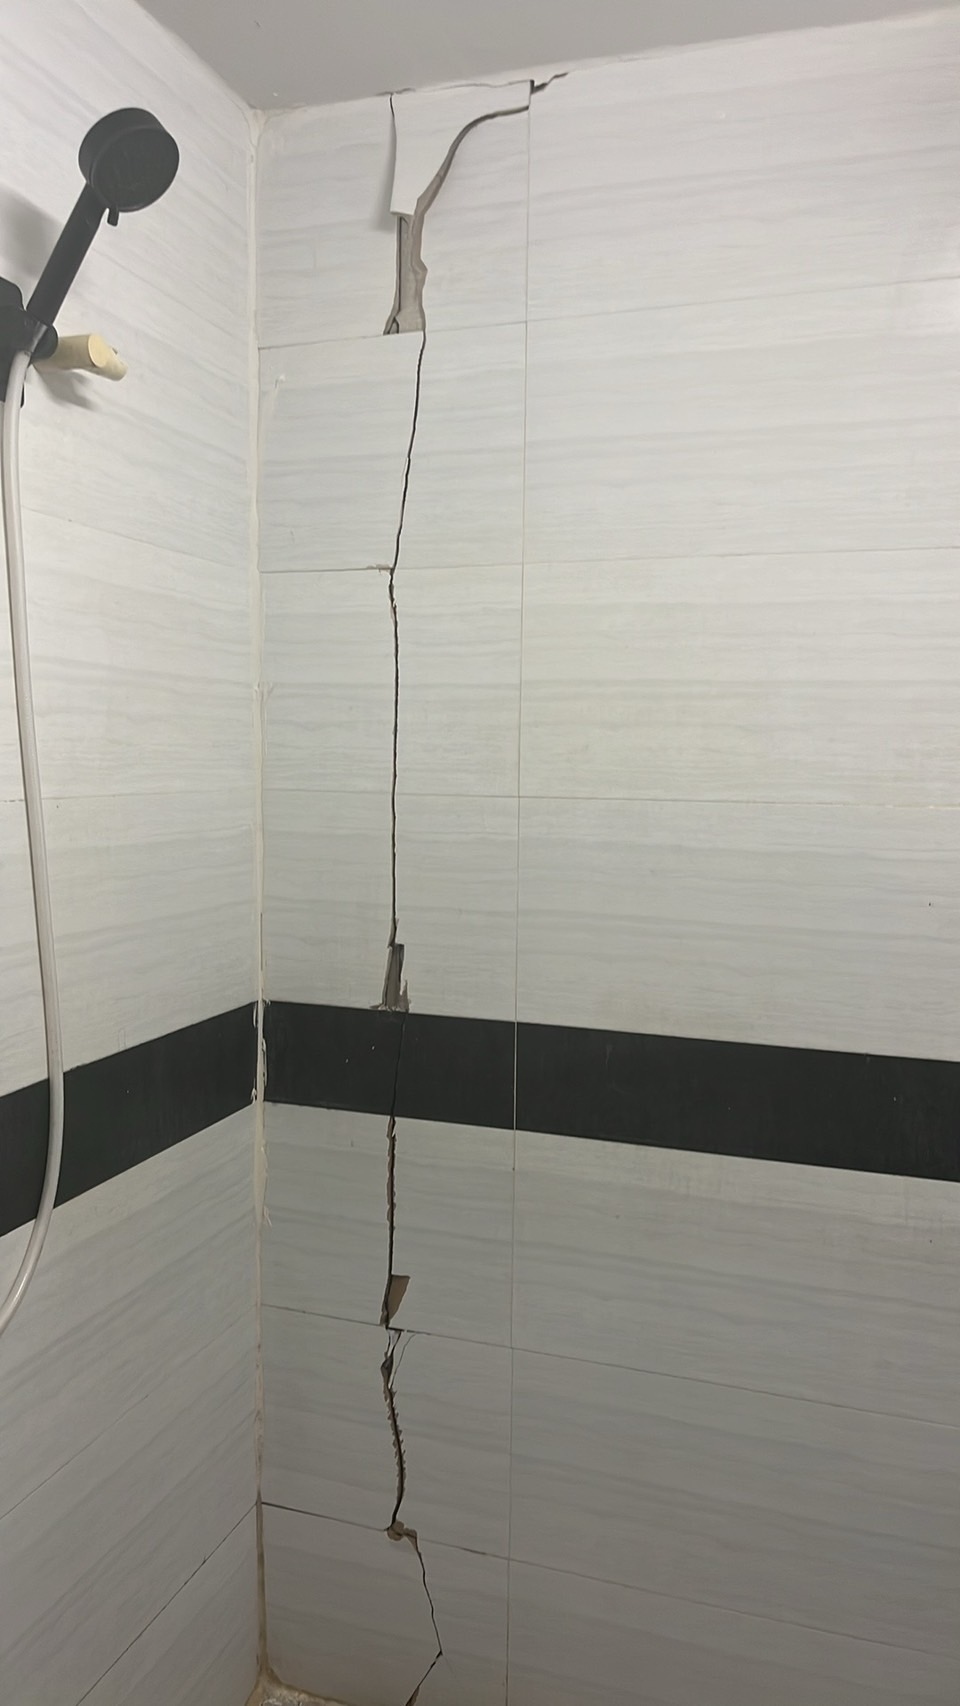Medium: (325, 835, 512, 1610)
